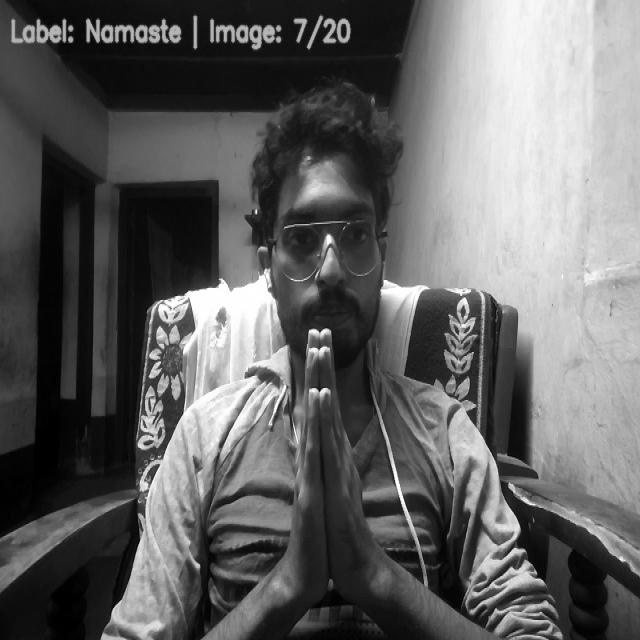Namaste: (262, 328, 378, 612)
